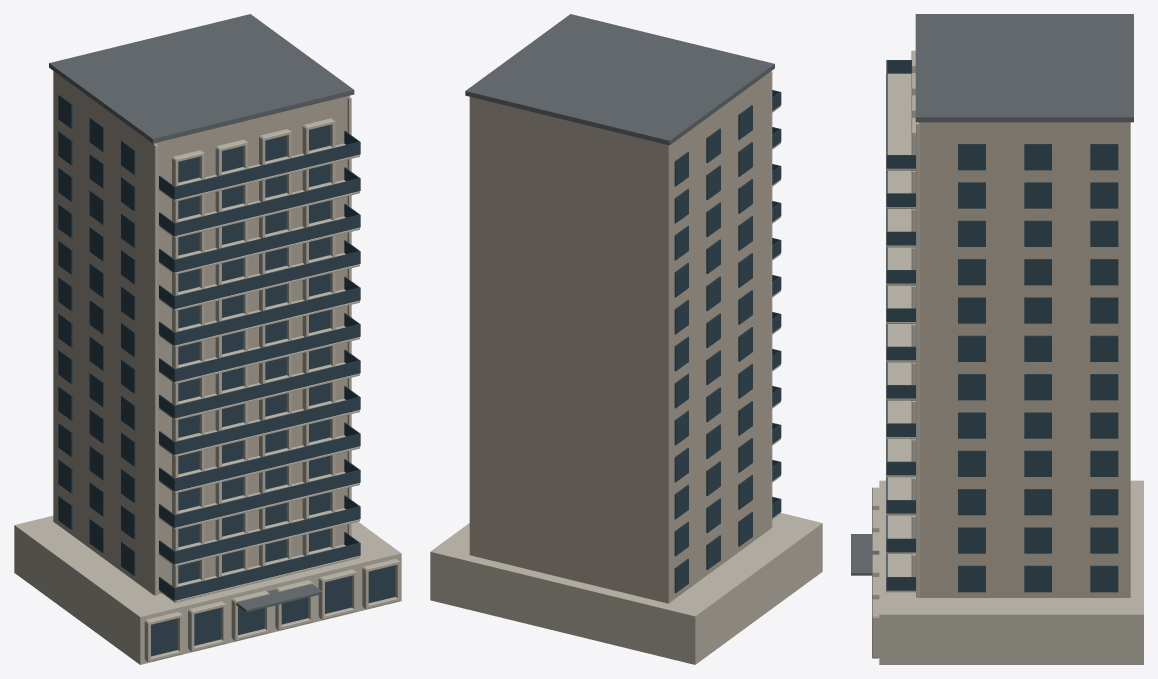
The model's file is residential-tower-sculpted-extreme.glb.
3 renders of one model, left to right at view 1: azimuth 30°, elevation 25°; view 2: azimuth 150°, elevation 25°; view 3: azimuth 270°, elevation 25°, orthographic. The views are drawn at different scales.
Visible parts, largest first — view 1: glass, wall, stone, roof; view 2: wall, stone, roof, glass; view 3: wall, stone, glass, roof.
Boxes of the visible parts, bbox=[...] form: glass: bbox=[58, 94, 395, 656]; wall: bbox=[53, 71, 349, 594]; stone: bbox=[14, 97, 401, 664]; roof: bbox=[49, 14, 354, 612]; wall: bbox=[469, 72, 770, 603]; stone: bbox=[430, 71, 822, 664]; roof: bbox=[465, 14, 774, 145]; glass: bbox=[674, 90, 781, 593]; wall: bbox=[919, 122, 1130, 597]; stone: bbox=[872, 50, 1143, 664]; glass: bbox=[886, 60, 1118, 592]; roof: bbox=[851, 14, 1133, 575].
Size of the model in its own units: 24 by 44.4 by 22.15.
